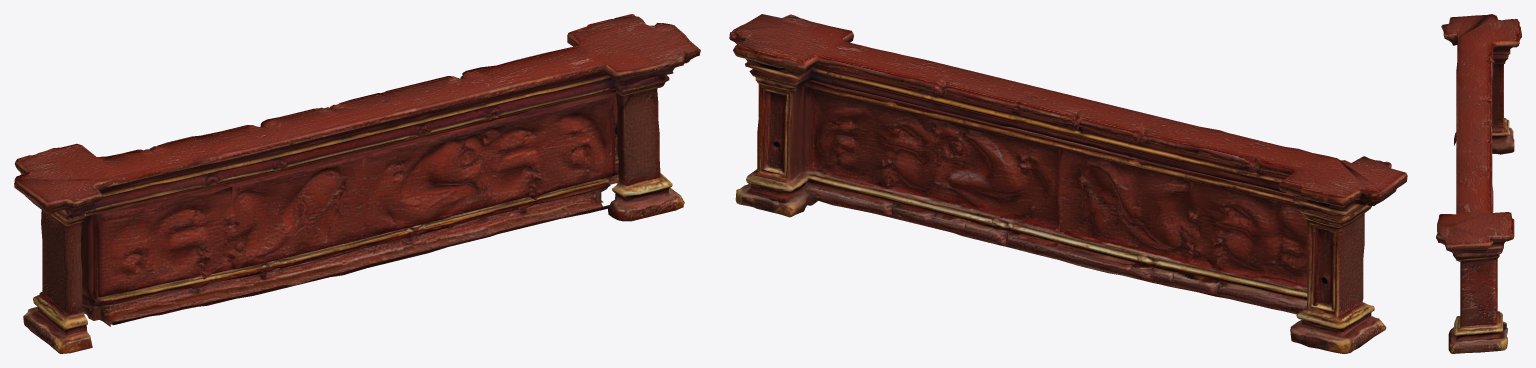
File: theme-stage-lintel-v05.glb
3 views of the same model, side by side, from view 1: azimuth 30°, elevation 25°; view 2: azimuth 150°, elevation 25°; view 3: azimuth 270°, elevation 25° (orthographic). The views are drawn at different scales.
Parts seen in each view (by area): view 1: tripo_node_2086625f-8db1-444b-a488-94890d470181; view 2: tripo_node_2086625f-8db1-444b-a488-94890d470181; view 3: tripo_node_2086625f-8db1-444b-a488-94890d470181.
Part boxes in pixels (x1,y1,x2,y2): tripo_node_2086625f-8db1-444b-a488-94890d470181: (14, 14, 700, 353); tripo_node_2086625f-8db1-444b-a488-94890d470181: (729, 14, 1407, 353); tripo_node_2086625f-8db1-444b-a488-94890d470181: (1436, 14, 1521, 353).
Size of the model in its own units: 1.45 by 0.35 by 0.2305.
1 material, 1 textured.
